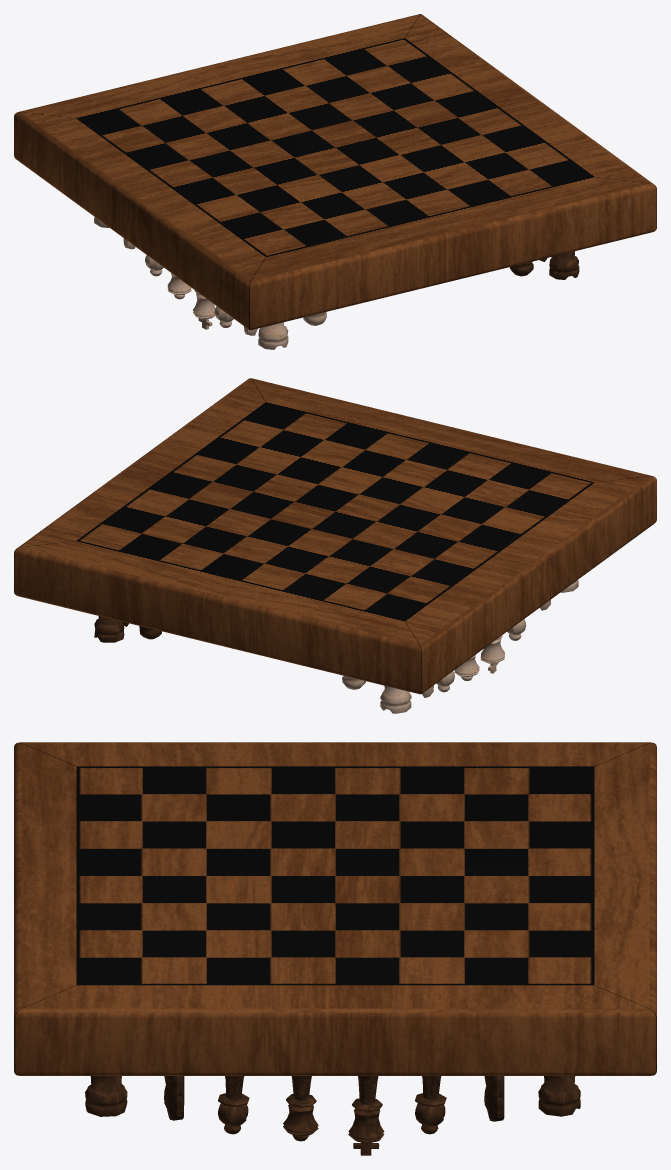
The picture shows the model from 3 angles, top to bottom: view 1: azimuth 30°, elevation 25°; view 2: azimuth 150°, elevation 25°; view 3: azimuth 270°, elevation 25°; orthographic projection. The views are drawn at different scales.
Visible parts, largest first — view 1: ChessBoard_0, BlackRook_2, WhiteRook.001_17, WhiteKing_10; view 2: ChessBoard_0, WhiteRook_6, BlackRook.001_14, WhiteKing_10; view 3: ChessBoard_0, BlackKing_11, BlackQueen_7, BlackRook_2, BlackRook.001_14, BlackBishop_4, BlackBishop.001_12, BlackKnight.001_13, BlackKnight_9.
Boxes of the visible parts, x1,y1,x2,y2 form: ChessBoard_0: (14,14,656,329); BlackRook_2: (549,251,579,279); WhiteRook.001_17: (258,322,288,349); WhiteKing_10: (193,290,215,329); ChessBoard_0: (14,378,656,694); WhiteRook_6: (380,685,411,713); BlackRook.001_14: (94,616,124,642); WhiteKing_10: (480,635,504,673); ChessBoard_0: (14,742,656,1075); BlackKing_11: (348,1076,384,1155); BlackQueen_7: (283,1076,318,1141); BlackRook_2: (85,1076,127,1116); BlackRook.001_14: (538,1076,580,1116); BlackBishop_4: (218,1076,249,1134); BlackBishop.001_12: (415,1076,446,1134); BlackKnight.001_13: (484,1076,504,1121); BlackKnight_9: (164,1076,184,1120).
Size of the model in its own units: 0.35 by 0.1108 by 0.35.
